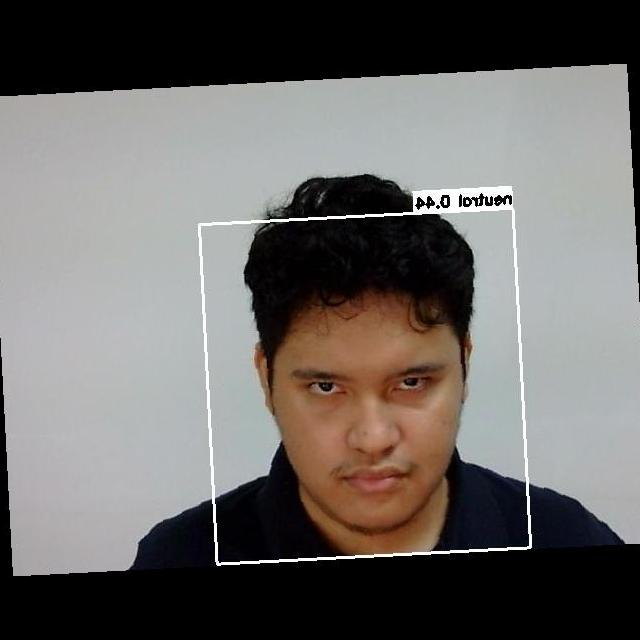Angry: (276, 345, 469, 508)
